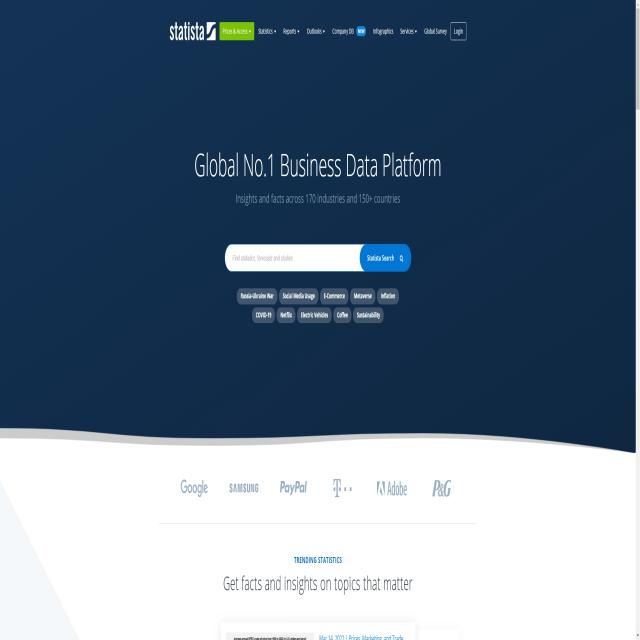menu-bar: (422, 20, 468, 41)
search: (222, 235, 414, 274)
tab-bar: (218, 22, 418, 45)
